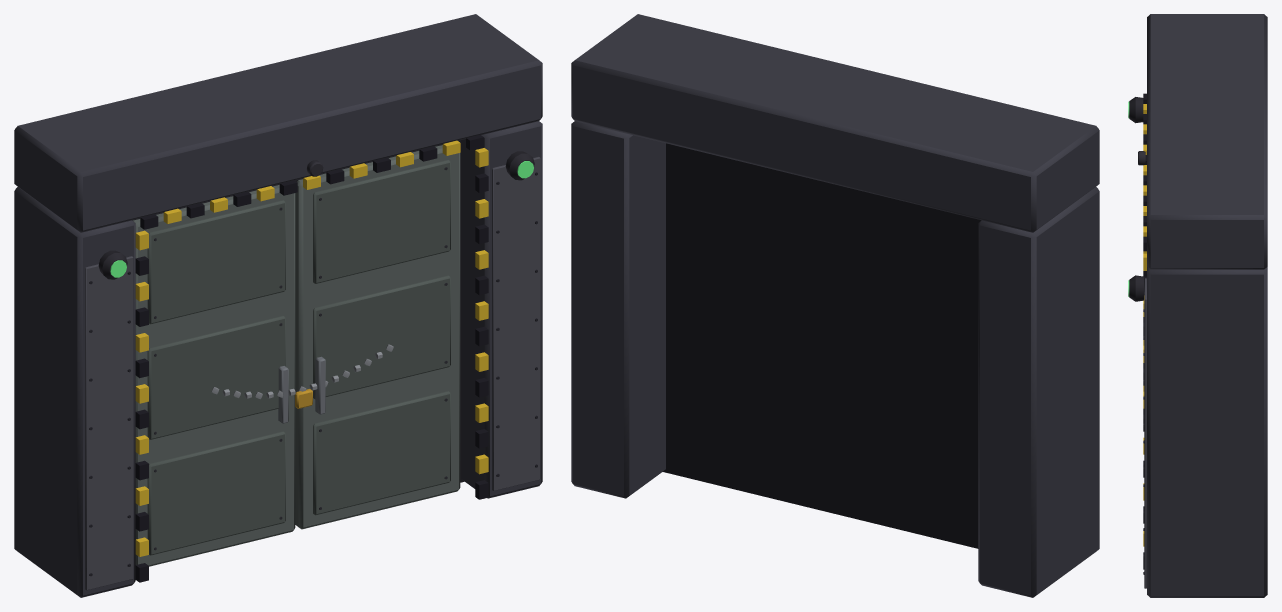
Rendered from stair_door.glb.
The picture shows the model from 3 angles, left to right: view 1: azimuth 30°, elevation 25°; view 2: azimuth 150°, elevation 25°; view 3: azimuth 270°, elevation 25°; orthographic projection. The views are drawn at different scales.
Visible parts, largest first — view 1: stair_door; view 2: stair_door; view 3: stair_door.
Boxes of the visible parts, x1,y1,x2,y2 form: stair_door: (14,14,542,597); stair_door: (571,14,1099,597); stair_door: (1128,14,1267,597).
Size of the model in its own units: 8 by 7 by 2.31.
